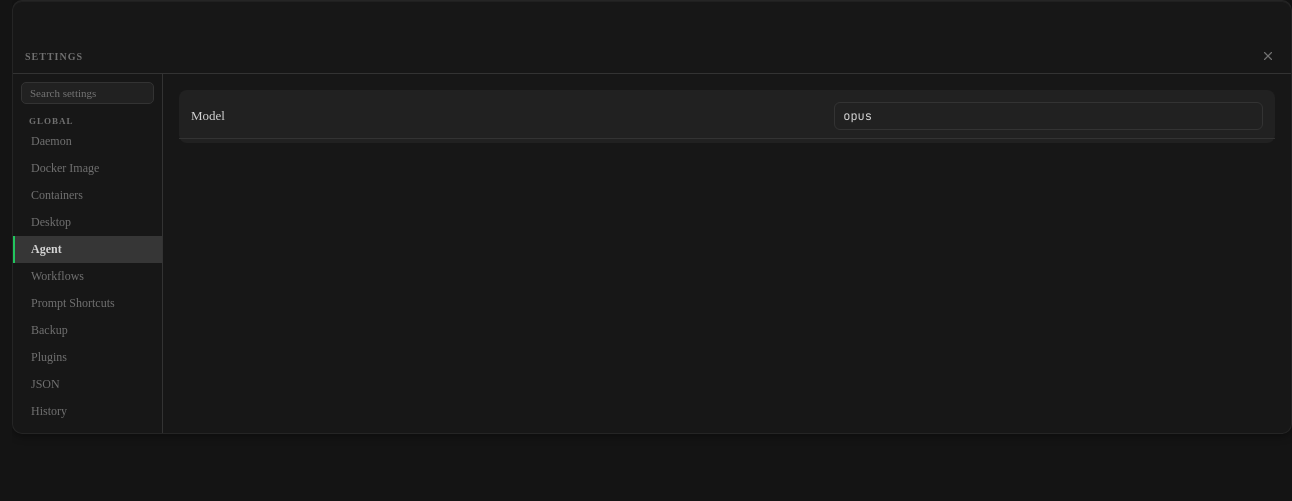
Test: Settings › unsaved changes › cancels the edits from the floating bar
Step 1. Type "-x" into the field → [1049, 116], box [834,102,1263,130]
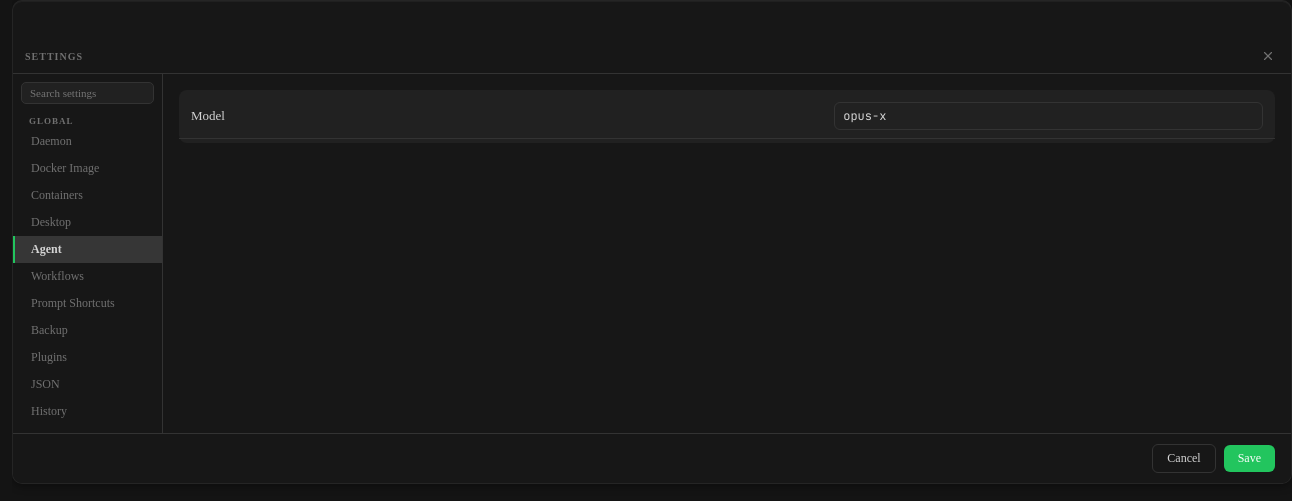
Step 2. Click the button "Cancel" → [1184, 458], box [1152,444,1216,473]
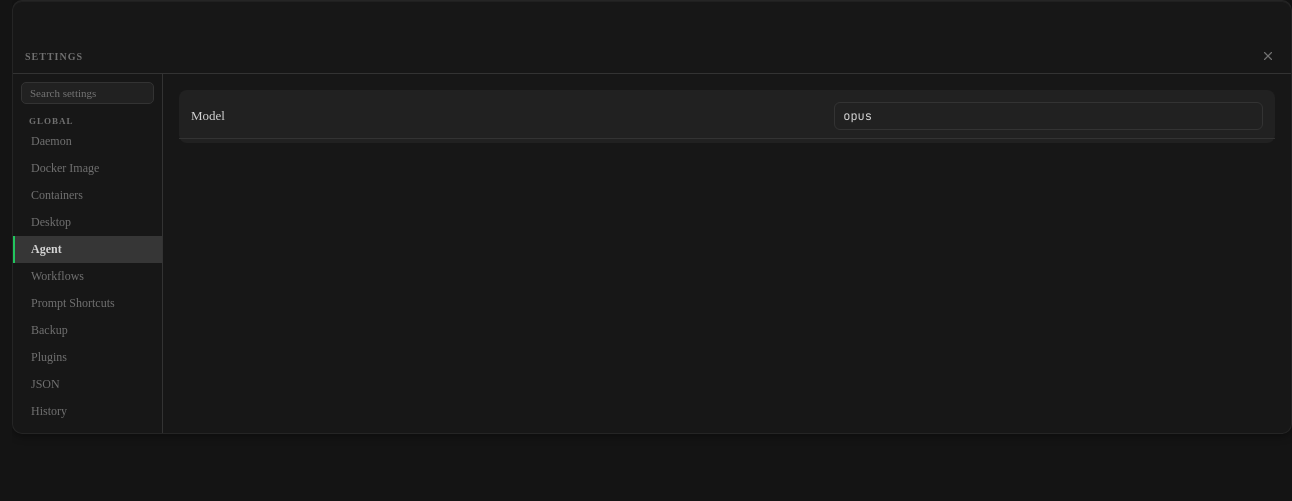
expect the button "Save" is gone: met
